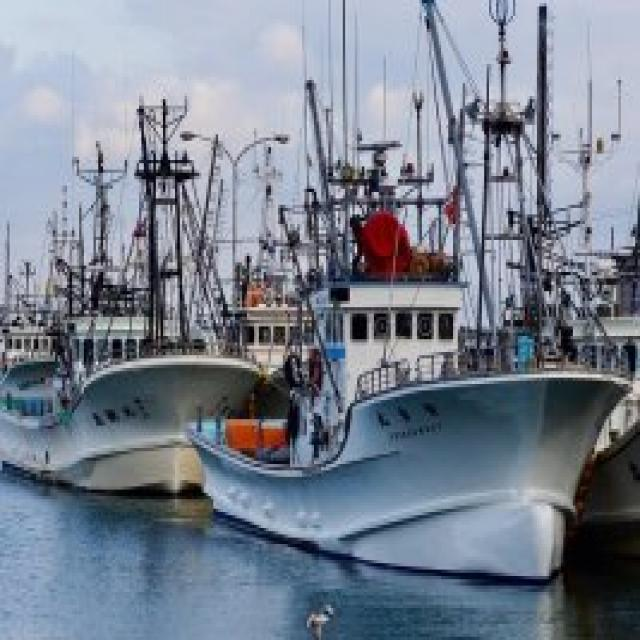Ship: (183, 219, 640, 590), (4, 104, 270, 504)
